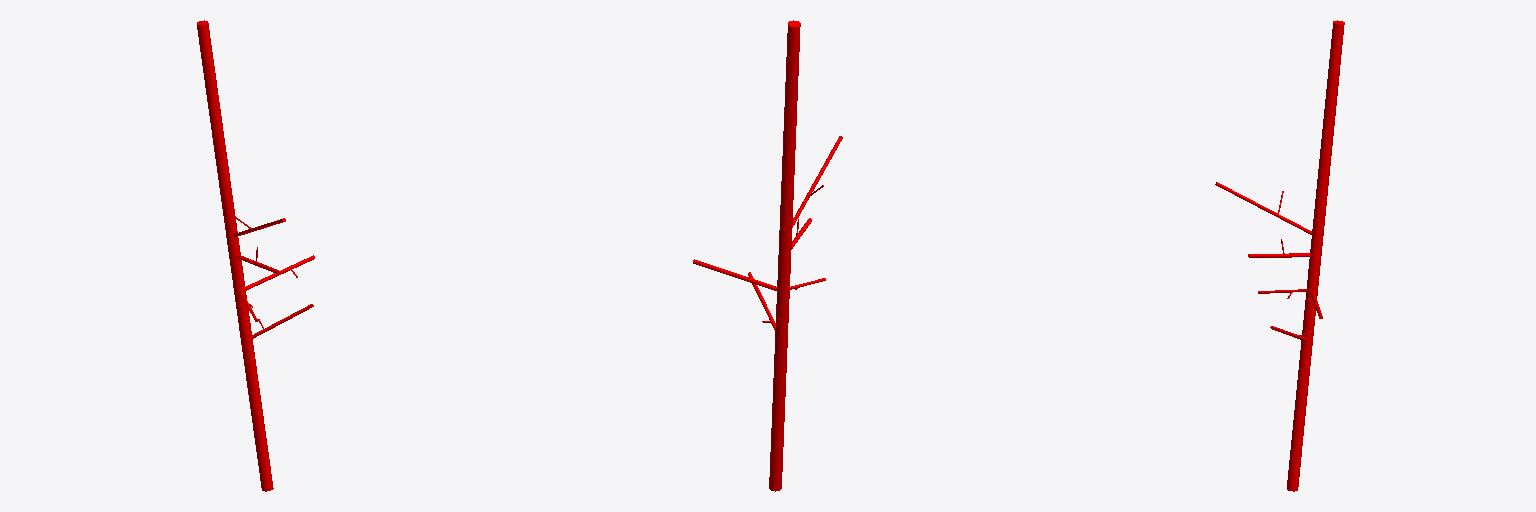
URDF robot description (tree_163.urdf):
<?xml version='1.0' encoding='UTF-8'?>
<robot name="tree_163.urdf">
  <link name="branch_0">
    <inertial>
      <origin xyz="0.0 0.0 0.0" rpy="0.0 -0.0 0.0"/>
      <mass value="0.1"/>
      <inertia ixx="0.001" ixy="0.0" ixz="0.0" iyy="0.001" iyz="0.0" izz="0.001"/>
    </inertial>
    <visual name="branch_0_visual">
      <geometry>
        <cylinder radius="0.07618465189952497" length="6.539215425380014"/>
      </geometry>
      <material name="semantic_material"/>
      <origin xyz="-0.30561644693049833 0.3058299986903737 3.2408951223618154" rpy="0.0 0.13262386870784398 2.355845233519546"/>
    </visual>
    <collision name="branch_0_collision">
      <geometry>
        <cylinder radius="0.07618465189952497" length="6.539215425380014"/>
      </geometry>
      <origin xyz="-0.30561644693049833 0.3058299986903737 3.2408951223618154" rpy="0.0 0.13262386870784398 2.355845233519546"/>
    </collision>
  </link>
  <link name="branch_1">
    <inertial>
      <origin xyz="0.0 0.0 0.0" rpy="0.0 -0.0 0.0"/>
      <mass value="0.1"/>
      <inertia ixx="0.001" ixy="0.0" ixz="0.0" iyy="0.001" iyz="0.0" izz="0.001"/>
    </inertial>
    <visual name="branch_1_visual">
      <geometry>
        <cylinder radius="0.018286181867816907" length="0.7401025339169205"/>
      </geometry>
      <material name="semantic_material"/>
      <origin xyz="0.0 0.0 0.0" rpy="0.0 -0.0 0.0"/>
    </visual>
    <collision name="branch_1_collision">
      <geometry>
        <cylinder radius="0.018286181867816907" length="0.7401025339169205"/>
      </geometry>
      <origin xyz="0.0 0.0 0.0" rpy="0.0 -0.0 0.0"/>
    </collision>
  </link>
  <link name="branch_2">
    <inertial>
      <origin xyz="0.0 0.0 0.0" rpy="0.0 -0.0 0.0"/>
      <mass value="0.1"/>
      <inertia ixx="0.001" ixy="0.0" ixz="0.0" iyy="0.001" iyz="0.0" izz="0.001"/>
    </inertial>
    <visual name="branch_2_visual">
      <geometry>
        <cylinder radius="0.01" length="0.1220145525337077"/>
      </geometry>
      <material name="semantic_material"/>
      <origin xyz="0.0 0.0 0.0" rpy="0.0 -0.0 0.0"/>
    </visual>
    <collision name="branch_2_collision">
      <geometry>
        <cylinder radius="0.01" length="0.1220145525337077"/>
      </geometry>
      <origin xyz="0.0 0.0 0.0" rpy="0.0 -0.0 0.0"/>
    </collision>
  </link>
  <link name="branch_3">
    <inertial>
      <origin xyz="0.0 0.0 0.0" rpy="0.0 -0.0 0.0"/>
      <mass value="0.1"/>
      <inertia ixx="0.001" ixy="0.0" ixz="0.0" iyy="0.001" iyz="0.0" izz="0.001"/>
    </inertial>
    <visual name="branch_3_visual">
      <geometry>
        <cylinder radius="0.023335939946177754" length="1.5385498394365273"/>
      </geometry>
      <material name="semantic_material"/>
      <origin xyz="0.0 0.0 0.0" rpy="0.0 -0.0 0.0"/>
    </visual>
    <collision name="branch_3_collision">
      <geometry>
        <cylinder radius="0.023335939946177754" length="1.5385498394365273"/>
      </geometry>
      <origin xyz="0.0 0.0 0.0" rpy="0.0 -0.0 0.0"/>
    </collision>
  </link>
  <link name="branch_4">
    <inertial>
      <origin xyz="0.0 0.0 0.0" rpy="0.0 -0.0 0.0"/>
      <mass value="0.1"/>
      <inertia ixx="0.001" ixy="0.0" ixz="0.0" iyy="0.001" iyz="0.0" izz="0.001"/>
    </inertial>
    <visual name="branch_4_visual">
      <geometry>
        <cylinder radius="0.01" length="0.35946776680953246"/>
      </geometry>
      <material name="semantic_material"/>
      <origin xyz="0.0 0.0 0.0" rpy="0.0 -0.0 0.0"/>
    </visual>
    <collision name="branch_4_collision">
      <geometry>
        <cylinder radius="0.01" length="0.35946776680953246"/>
      </geometry>
      <origin xyz="0.0 0.0 0.0" rpy="0.0 -0.0 0.0"/>
    </collision>
  </link>
  <link name="branch_5">
    <inertial>
      <origin xyz="0.0 0.0 0.0" rpy="0.0 -0.0 0.0"/>
      <mass value="0.1"/>
      <inertia ixx="0.001" ixy="0.0" ixz="0.0" iyy="0.001" iyz="0.0" izz="0.001"/>
    </inertial>
    <visual name="branch_5_visual">
      <geometry>
        <cylinder radius="0.02590844127295363" length="1.1814705392335523"/>
      </geometry>
      <material name="semantic_material"/>
      <origin xyz="0.0 0.0 0.0" rpy="0.0 -0.0 0.0"/>
    </visual>
    <collision name="branch_5_collision">
      <geometry>
        <cylinder radius="0.02590844127295363" length="1.1814705392335523"/>
      </geometry>
      <origin xyz="0.0 0.0 0.0" rpy="0.0 -0.0 0.0"/>
    </collision>
  </link>
  <link name="branch_6">
    <inertial>
      <origin xyz="0.0 0.0 0.0" rpy="0.0 -0.0 0.0"/>
      <mass value="0.1"/>
      <inertia ixx="0.001" ixy="0.0" ixz="0.0" iyy="0.001" iyz="0.0" izz="0.001"/>
    </inertial>
    <visual name="branch_6_visual">
      <geometry>
        <cylinder radius="0.01" length="0.16555235389584974"/>
      </geometry>
      <material name="semantic_material"/>
      <origin xyz="0.0 0.0 0.0" rpy="0.0 -0.0 0.0"/>
    </visual>
    <collision name="branch_6_collision">
      <geometry>
        <cylinder radius="0.01" length="0.16555235389584974"/>
      </geometry>
      <origin xyz="0.0 0.0 0.0" rpy="0.0 -0.0 0.0"/>
    </collision>
  </link>
  <link name="branch_7">
    <inertial>
      <origin xyz="0.0 0.0 0.0" rpy="0.0 -0.0 0.0"/>
      <mass value="0.1"/>
      <inertia ixx="0.001" ixy="0.0" ixz="0.0" iyy="0.001" iyz="0.0" izz="0.001"/>
    </inertial>
    <visual name="branch_7_visual">
      <geometry>
        <cylinder radius="0.02644776310889466" length="0.8967555596528493"/>
      </geometry>
      <material name="semantic_material"/>
      <origin xyz="0.0 0.0 0.0" rpy="0.0 -0.0 0.0"/>
    </visual>
    <collision name="branch_7_collision">
      <geometry>
        <cylinder radius="0.02644776310889466" length="0.8967555596528493"/>
      </geometry>
      <origin xyz="0.0 0.0 0.0" rpy="0.0 -0.0 0.0"/>
    </collision>
  </link>
  <link name="branch_8">
    <inertial>
      <origin xyz="0.0 0.0 0.0" rpy="0.0 -0.0 0.0"/>
      <mass value="0.1"/>
      <inertia ixx="0.001" ixy="0.0" ixz="0.0" iyy="0.001" iyz="0.0" izz="0.001"/>
    </inertial>
    <visual name="branch_8_visual">
      <geometry>
        <cylinder radius="0.01" length="0.24303337367941727"/>
      </geometry>
      <material name="semantic_material"/>
      <origin xyz="0.0 0.0 0.0" rpy="0.0 -0.0 0.0"/>
    </visual>
    <collision name="branch_8_collision">
      <geometry>
        <cylinder radius="0.01" length="0.24303337367941727"/>
      </geometry>
      <origin xyz="0.0 0.0 0.0" rpy="0.0 -0.0 0.0"/>
    </collision>
  </link>
  <link name="branch_9">
    <inertial>
      <origin xyz="0.0 0.0 0.0" rpy="0.0 -0.0 0.0"/>
      <mass value="0.1"/>
      <inertia ixx="0.001" ixy="0.0" ixz="0.0" iyy="0.001" iyz="0.0" izz="0.001"/>
    </inertial>
    <visual name="branch_9_visual">
      <geometry>
        <cylinder radius="0.023153887780262714" length="0.9937307985743016"/>
      </geometry>
      <material name="semantic_material"/>
      <origin xyz="0.0 0.0 0.0" rpy="0.0 -0.0 0.0"/>
    </visual>
    <collision name="branch_9_collision">
      <geometry>
        <cylinder radius="0.023153887780262714" length="0.9937307985743016"/>
      </geometry>
      <origin xyz="0.0 0.0 0.0" rpy="0.0 -0.0 0.0"/>
    </collision>
  </link>
  <link name="branch_10">
    <inertial>
      <origin xyz="0.0 0.0 0.0" rpy="0.0 -0.0 0.0"/>
      <mass value="0.1"/>
      <inertia ixx="0.001" ixy="0.0" ixz="0.0" iyy="0.001" iyz="0.0" izz="0.001"/>
    </inertial>
    <visual name="branch_10_visual">
      <geometry>
        <cylinder radius="0.01" length="0.20559491018506482"/>
      </geometry>
      <material name="semantic_material"/>
      <origin xyz="0.0 0.0 0.0" rpy="0.0 -0.0 0.0"/>
    </visual>
    <collision name="branch_10_collision">
      <geometry>
        <cylinder radius="0.01" length="0.20559491018506482"/>
      </geometry>
      <origin xyz="0.0 0.0 0.0" rpy="0.0 -0.0 0.0"/>
    </collision>
  </link>
  <joint name="joint_0_1" type="fixed">
    <parent link="branch_0"/>
    <child link="branch_1"/>
    <axis xyz="1. 0. 0."/>
    <origin xyz="-0.3418185931121545 -0.09591711081272969 2.7103542696853817" rpy="2.4894372702567025 1.3829665772542254 0.6867246295330409"/>
  </joint>
  <joint name="joint_0_3" type="fixed">
    <parent link="branch_0"/>
    <child link="branch_3"/>
    <axis xyz="1. 0. 0."/>
    <origin xyz="-0.3293261472030874 -0.33480416882246405 3.897511054804003" rpy="0.17562994087210299 1.0384420286864062 -1.3647414256495911"/>
  </joint>
  <joint name="joint_0_5" type="fixed">
    <parent link="branch_0"/>
    <child link="branch_5"/>
    <axis xyz="1. 0. 0."/>
    <origin xyz="0.32283161547196954 0.3171274409904124 2.8314750137010964" rpy="-0.6251183467886268 1.3965408942436046 -0.533441285854096"/>
  </joint>
  <joint name="joint_0_7" type="fixed">
    <parent link="branch_0"/>
    <child link="branch_7"/>
    <axis xyz="1. 0. 0."/>
    <origin xyz="-0.22624348686947052 -0.13309921586930243 3.2842093370961996" rpy="0.787147730614075 1.4647329504407096 -0.6002639009797653"/>
  </joint>
  <joint name="joint_0_9" type="fixed">
    <parent link="branch_0"/>
    <child link="branch_9"/>
    <axis xyz="1. 0. 0."/>
    <origin xyz="0.15978111234224887 -0.03700473163174225 2.3298907064301178" rpy="-0.04859761781040695 1.02347897460751 -0.6365437833430037"/>
  </joint>
  <joint name="joint_1_2" type="fixed">
    <parent link="branch_0"/>
    <child link="branch_2"/>
    <axis xyz="1. 0. 0."/>
    <origin xyz="-0.28537903931980196 -0.028327445480770836 2.68491661064702" rpy="2.309664331092808 0.1713093238275386 1.0022436492890225"/>
  </joint>
  <joint name="joint_3_4" type="fixed">
    <parent link="branch_0"/>
    <child link="branch_4"/>
    <axis xyz="1. 0. 0."/>
    <origin xyz="-0.45851347858559227 -0.1545419564161699 3.933775075385936" rpy="-0.7526948775416462 0.4013568966587331 1.709044491574899"/>
  </joint>
  <joint name="joint_5_6" type="fixed">
    <parent link="branch_0"/>
    <child link="branch_6"/>
    <axis xyz="1. 0. 0."/>
    <origin xyz="0.5474299982983967 0.2712021056696651 2.814778958959786" rpy="-2.176208623287245 0.15625658244784119 -3.0205281909502237"/>
  </joint>
  <joint name="joint_7_8" type="fixed">
    <parent link="branch_0"/>
    <child link="branch_8"/>
    <axis xyz="1. 0. 0."/>
    <origin xyz="-0.2326703303349298 -0.12612556666721148 3.40242056495592" rpy="-0.04309875990545554 -0.1449946953275021 1.7607921132008622"/>
  </joint>
  <joint name="joint_9_10" type="fixed">
    <parent link="branch_0"/>
    <child link="branch_10"/>
    <axis xyz="1. 0. 0."/>
    <origin xyz="0.008105005911332126 0.1654527905919459 2.2473335051949253" rpy="1.1188435214330912 0.6284398385829069 2.7407115071956745"/>
  </joint>
  <material name="semantic_material">
    <color rgba="1. 0. 0. 1."/>
  </material>
</robot>

--- What the picture shows (computed from the rendered views, not written in the file) ---
3 views of the same robot in one strip: view 1: azimuth 30°, elevation 25°; view 2: azimuth 150°, elevation 25°; view 3: azimuth 270°, elevation 25° (orthographic).
Model tree_163.urdf with 11 links and 10 joints (10 fixed), rooted at branch_0, posed every joint at zero.
Links seen in each view (by area): view 1: branch_0; view 2: branch_0; view 3: branch_0.
Boxes of the visible links, x1=… form: branch_0: x1=197, y1=20, x2=273, y2=491; branch_0: x1=769, y1=20, x2=800, y2=491; branch_0: x1=1287, y1=20, x2=1344, y2=491.
Bounding box of the posed robot: 1.6 × 1.7 × 6.5 m (x, y, z).
Geometry: primitives only (box / cylinder / sphere), no mesh files.
